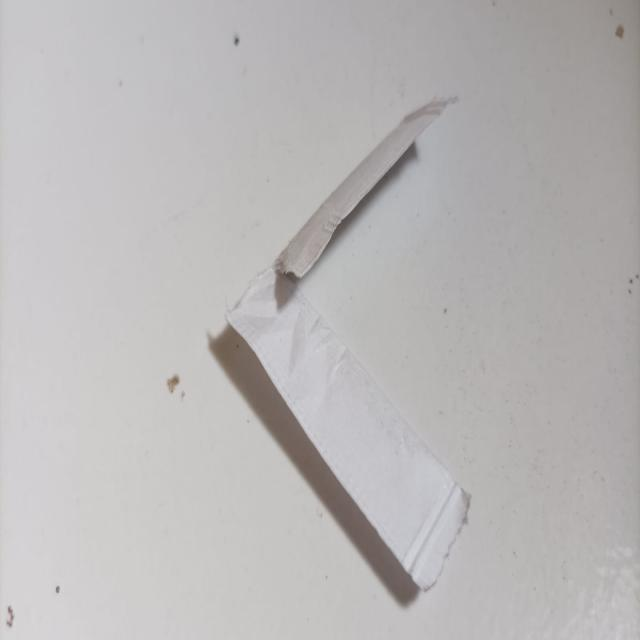Organik: (229, 100, 469, 592)
